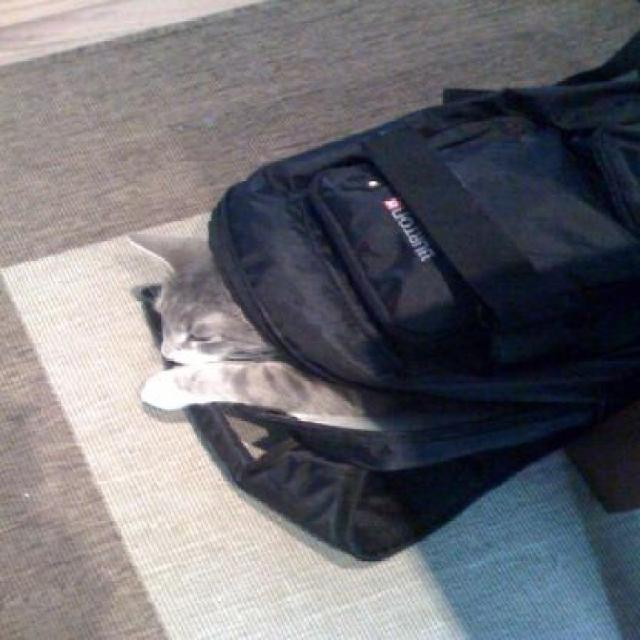backpack: (112, 26, 640, 586)
